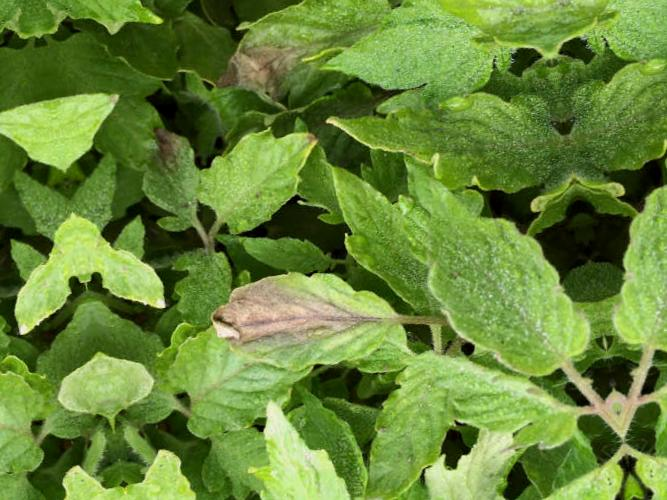Tomato mold leaf: (405, 133, 595, 396), (317, 53, 570, 228), (204, 234, 418, 412), (410, 301, 599, 492), (203, 0, 417, 117), (312, 1, 514, 115), (334, 332, 471, 500), (190, 124, 326, 249), (250, 372, 356, 500)
